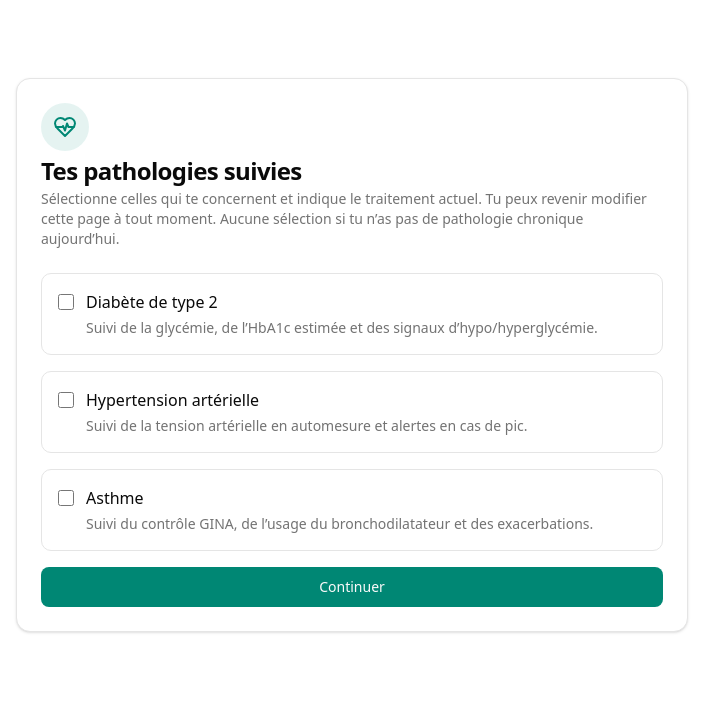
Test case: <PathologiesPage /> › blocks submission if a checked pathology has no treatment profile picked
Click the checkbox named "Activer Diabète de type 2".
click(66, 302)  # box [58, 294, 74, 310]
(page scrolled)
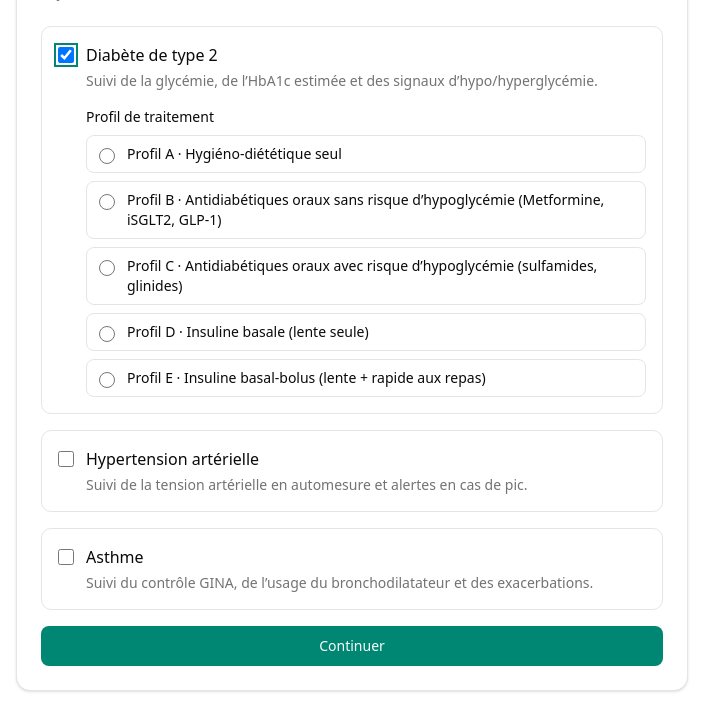
Click the button "Continuer".
click(352, 646)  # box [41, 626, 663, 666]
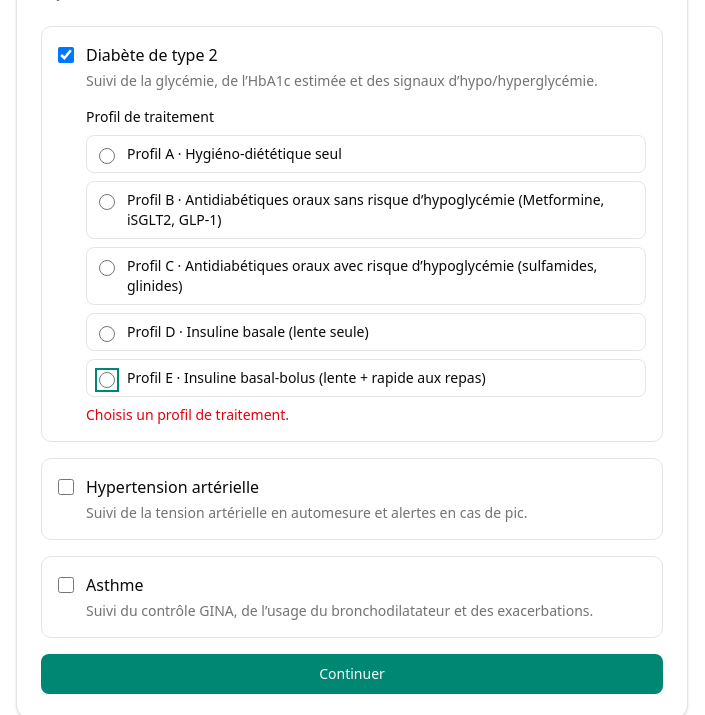
Now the text "Choisis un profil de traitement." is shown, box [86, 405, 289, 424]
